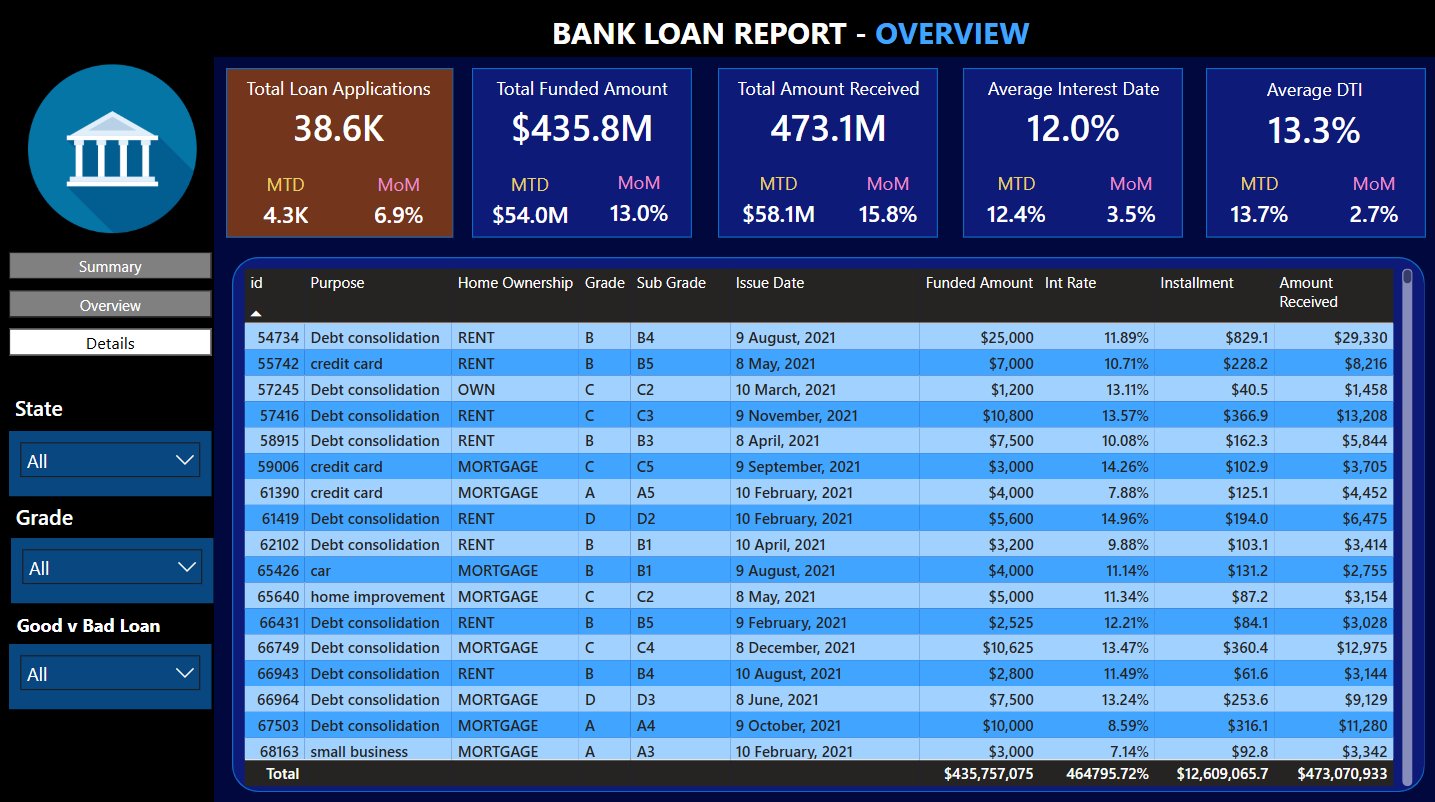

What the dashboard file says about the page in this screenshot:
{"tool":"powerbi","page":{"name":"Details","canvas":[1280,720],"ordinal":2},"visuals":[{"type":"cardVisual","fields":{"Data":["financial_loan.MTD Average Interest Date"]},"box":[846.7,140.9,116.6,82.1],"z":0,"group":"g7"},{"type":"cardVisual","fields":{"Data":["financial_loan.MTD Average DTI"]},"box":[1063.4,140.9,116.6,82.1],"z":0,"group":"g8"},{"type":"cardVisual","fields":{"Data":["financial_loan.MTD Loan Applications"]},"box":[202.3,141,106,82.7],"z":0,"group":"g4"},{"type":"cardVisual","fields":{"Data":["financial_loan.MTD Amount Received"]},"box":[631,141.1,125.4,82.5],"z":0,"group":"g6"},{"type":"cardVisual","fields":{"Data":["financial_loan.MTD Funded Amount"]},"box":[410,141.2,126.5,81.4],"z":0,"group":"g5"},{"type":"shape","box":[208,232.9,1060.4,475.6],"z":0},{"type":"group","id":"g1","title":"Group 3","box":[9.8,349.3,180.3,96.8],"z":0,"group":"g9"},{"type":"slicer","fields":{"Values":["financial_loan.address_state"]},"box":[9.8,387.8,180.3,58.3],"z":0,"group":"g1"},{"type":"slicer","fields":{"Values":["financial_loan.grade"]},"box":[11.6,482.8,180.4,57.8],"z":0,"group":"g2"},{"type":"slicer","fields":{"Values":["financial_loan.Good vs Bad Loan"]},"box":[9.9,577.1,180.3,58.3],"z":0,"group":"g3"},{"type":"shape","box":[0,0,1280,55],"z":1000},{"type":"cardVisual","fields":{"Data":["financial_loan.MoM Funded Amount"]},"box":[515.1,139.7,110.6,82.3],"z":1000,"group":"g5"},{"type":"cardVisual","fields":{"Data":["financial_loan.MoM Amount Received"]},"box":[736.2,140.8,110.6,82.3],"z":1000,"group":"g6"},{"type":"cardVisual","fields":{"Data":["financial_loan.MoM Average Interest Date"]},"box":[950.7,140.8,112.2,82.5],"z":1000,"group":"g7"},{"type":"cardVisual","fields":{"Data":["financial_loan.MoM Average DTI"]},"box":[1167.4,140.8,112.2,82.5],"z":1000,"group":"g8"},{"type":"cardVisual","fields":{"Data":["financial_loan.MoM Loan Applications"]},"box":[298.6,141,115.7,82.7],"z":1000,"group":"g4"},{"type":"textbox","box":[9.8,349.3,115.5,38.5],"z":1000,"group":"g1"},{"type":"group","id":"g2","title":"Group 4","box":[10.9,446.1,181.2,94.4],"z":1000,"group":"g9"},{"type":"textbox","box":[10.9,446.1,115.5,39.6],"z":1000,"group":"g2"},{"type":"textbox","box":[11.5,543.9,146.7,39.1],"z":1000,"group":"g3"},{"type":"shape","box":[0,55.1,192,664.9],"z":2000},{"type":"group","id":"g3","title":"Group 5","box":[9.9,543.9,180.3,91.4],"z":2000,"group":"g9"},{"type":"textbox","box":[487.1,9.9,442.1,55],"z":3000},{"type":"shape","box":[1073.8,65.2,195.5,150.8],"z":4000},{"type":"shape","box":[202.3,65.2,202.3,150.8],"z":5000},{"type":"shape","box":[857.9,65.2,195.5,150.8],"z":6000},{"type":"shape","box":[640,65.2,195.5,150.8],"z":7000},{"type":"shape","box":[421.2,65.2,195.5,150.8],"z":8000},{"type":"cardVisual","fields":{"Data":["financial_loan.Total Loan Applications"]},"box":[191.3,55,223.2,100.1],"z":9000},{"type":"cardVisual","fields":{"Data":["Sum(financial_loan.loan_amount)"]},"box":[406.9,55,224.3,100.1],"z":10000},{"type":"cardVisual","fields":{"Data":["financial_loan.Total Amount Received"]},"box":[625.7,55,225.4,100.1],"z":11000},{"type":"cardVisual","fields":{"Data":["financial_loan.Average Interest Date"]},"box":[843.4,55,225.4,100.1],"z":12000},{"type":"cardVisual","fields":{"Data":["financial_loan.Average DTI"]},"box":[1073.3,55,195.7,101.2],"z":13000},{"type":"group","id":"g4","title":"Group 1","box":[202.3,141,212,82.7],"z":14000},{"type":"group","id":"g5","title":"Group 1","box":[410,139.7,215.7,82.9],"z":15000},{"type":"group","id":"g6","title":"Group 1","box":[631,140.8,215.8,82.7],"z":16000},{"type":"group","id":"g7","title":"Group 1","box":[846.7,140.8,216.6,82.5],"z":17000},{"type":"group","id":"g8","title":"Group 1","box":[1063.4,140.8,216.2,82.5],"z":18000},{"type":"group","id":"g9","title":"Group 6","box":[9.8,349.3,182.2,286.2],"z":19000},{"type":"tableEx","fields":{"Values":["financial_loan.id","financial_loan.purpose","financial_loan.home_ownership","financial_loan.grade","financial_loan.sub_grade","financial_loan.issue_date","financial_loan.Total Funded Amount","Sum(financial_loan.int_rate)","Sum(financial_loan.installment)","financial_loan.Total Amount Received"]},"box":[213.3,238.2,1048.9,470.2],"z":27001},{"type":"pageNavigator","box":[9.8,228.4,180.4,93.3],"z":27002},{"type":"image","box":[26.7,50.7,150.2,171.6],"z":27003}]}

Visuals, with their boxes in screenshot pixels (x1, y1, x2, y2), scaled from the page's 1280x720 canvas onto the 1435x802 screenshot:
cardVisual - financial_loan.MTD Average Interest Date: select_region(949, 157, 1080, 248)
cardVisual - financial_loan.MTD Average DTI: select_region(1192, 157, 1323, 248)
cardVisual - financial_loan.MTD Loan Applications: select_region(227, 157, 346, 249)
cardVisual - financial_loan.MTD Amount Received: select_region(707, 157, 848, 249)
cardVisual - financial_loan.MTD Funded Amount: select_region(460, 157, 601, 248)
shape: select_region(233, 259, 1422, 789)
"Group 3" group: select_region(11, 389, 213, 497)
slicer - financial_loan.address_state: select_region(11, 432, 213, 497)
slicer - financial_loan.grade: select_region(13, 538, 215, 602)
slicer - financial_loan.Good vs Bad Loan: select_region(11, 643, 213, 708)
shape: select_region(0, 0, 1434, 61)
cardVisual - financial_loan.MoM Funded Amount: select_region(577, 156, 701, 247)
cardVisual - financial_loan.MoM Amount Received: select_region(825, 157, 949, 249)
cardVisual - financial_loan.MoM Average Interest Date: select_region(1066, 157, 1192, 249)
cardVisual - financial_loan.MoM Average DTI: select_region(1309, 157, 1434, 249)
cardVisual - financial_loan.MoM Loan Applications: select_region(335, 157, 464, 249)
textbox: select_region(11, 389, 140, 432)
"Group 4" group: select_region(12, 497, 215, 602)
textbox: select_region(12, 497, 142, 541)
textbox: select_region(13, 606, 177, 649)
shape: select_region(0, 61, 215, 801)
"Group 5" group: select_region(11, 606, 213, 708)
textbox: select_region(546, 11, 1042, 72)
shape: select_region(1204, 73, 1423, 241)
shape: select_region(227, 73, 454, 241)
shape: select_region(962, 73, 1181, 241)
shape: select_region(718, 73, 937, 241)
shape: select_region(472, 73, 691, 241)
cardVisual - financial_loan.Total Loan Applications: select_region(214, 61, 465, 173)
cardVisual - Sum(financial_loan.loan_amount): select_region(456, 61, 708, 173)
cardVisual - financial_loan.Total Amount Received: select_region(701, 61, 954, 173)
cardVisual - financial_loan.Average Interest Date: select_region(946, 61, 1198, 173)
cardVisual - financial_loan.Average DTI: select_region(1203, 61, 1423, 174)
"Group 1" group: select_region(227, 157, 464, 249)
"Group 1" group: select_region(460, 156, 701, 248)
"Group 1" group: select_region(707, 157, 949, 249)
"Group 1" group: select_region(949, 157, 1192, 249)
"Group 1" group: select_region(1192, 157, 1434, 249)
"Group 6" group: select_region(11, 389, 215, 708)
tableEx - financial_loan.id x financial_loan.purpose: select_region(239, 265, 1415, 789)
pageNavigator: select_region(11, 254, 213, 358)
image: select_region(30, 56, 198, 248)
